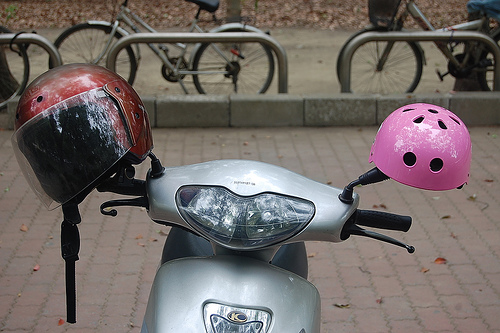helmet: (20, 71, 150, 187), (374, 103, 478, 198)
